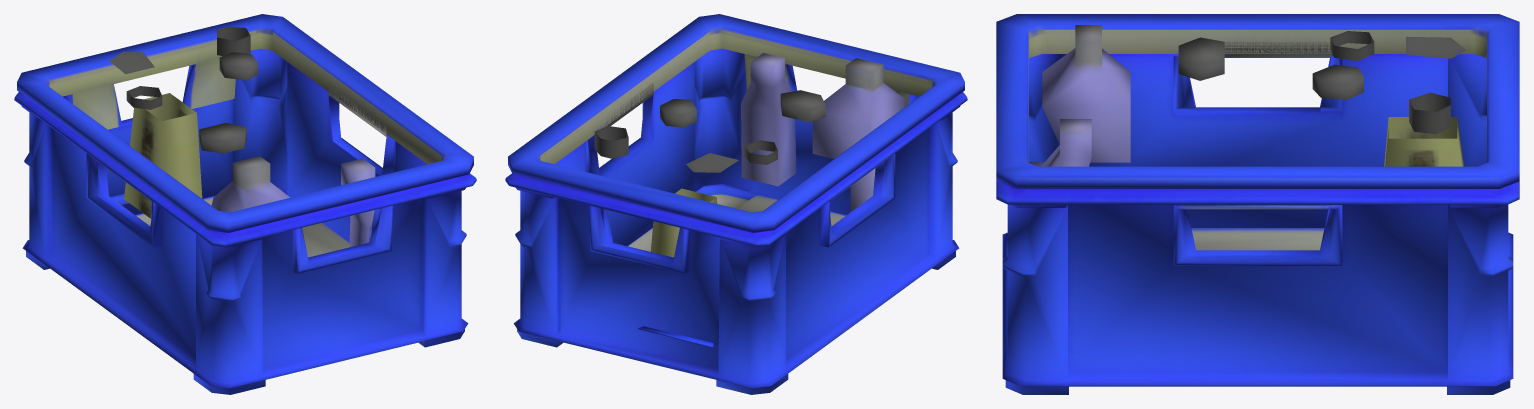
File: gym_water_crate.glb
The picture shows the model from 3 angles, left to right: view 1: azimuth 30°, elevation 25°; view 2: azimuth 150°, elevation 25°; view 3: azimuth 270°, elevation 25°; orthographic projection. The views are drawn at different scales.
Visible parts, largest first — view 1: tripo_node_f7717c07-8068-4de1-bca0-5f34dc5305f8; view 2: tripo_node_f7717c07-8068-4de1-bca0-5f34dc5305f8; view 3: tripo_node_f7717c07-8068-4de1-bca0-5f34dc5305f8.
Boxes of the visible parts, box(x1,y1,x2,y2) form: tripo_node_f7717c07-8068-4de1-bca0-5f34dc5305f8: box(14, 14, 476, 394); tripo_node_f7717c07-8068-4de1-bca0-5f34dc5305f8: box(505, 14, 967, 394); tripo_node_f7717c07-8068-4de1-bca0-5f34dc5305f8: box(996, 14, 1519, 394).
Size of the model in its own units: 0.7417 by 0.544 by 1.
Materials: 1 (1 with a texture image).
